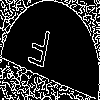F: (25, 25, 52, 78)
